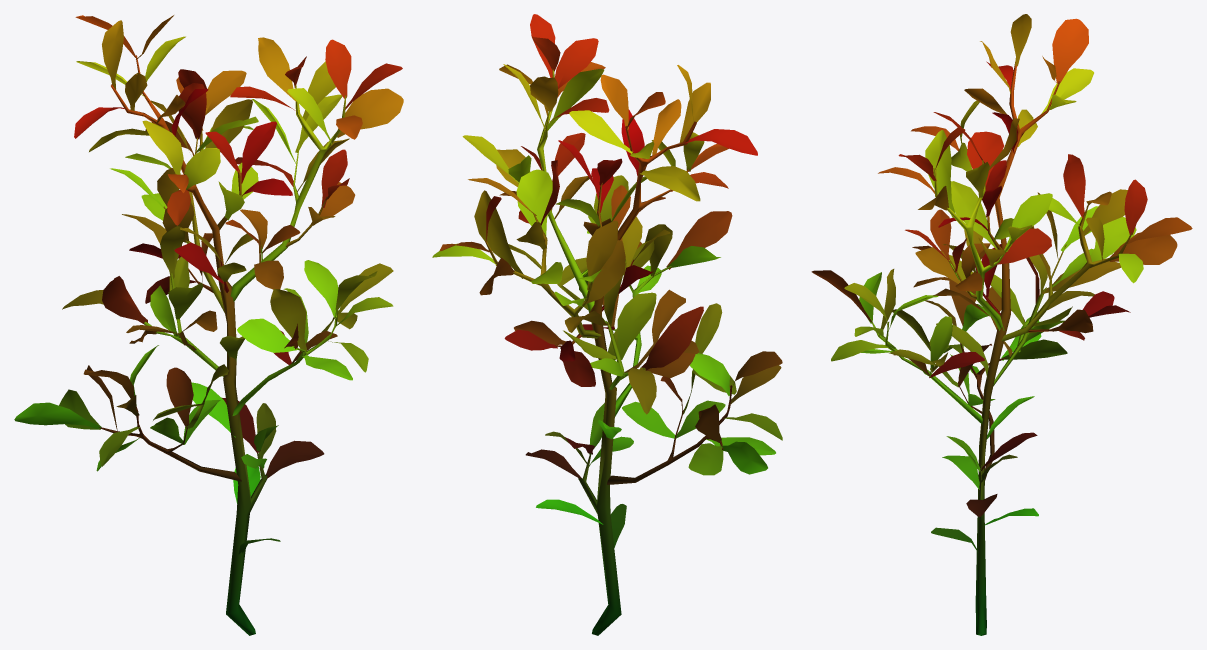
Rendered from SM_OW_Shrub_d_LOD0.fbx.
3 views of the same model, side by side, from view 1: azimuth 30°, elevation 25°; view 2: azimuth 150°, elevation 25°; view 3: azimuth 270°, elevation 25° (orthographic). The views are drawn at different scales.
Visible parts, largest first — view 1: SM_OW_Shrub_d_LOD0; view 2: SM_OW_Shrub_d_LOD0; view 3: SM_OW_Shrub_d_LOD0.
Part boxes in pixels (x1,y1,x2,y2): SM_OW_Shrub_d_LOD0: (14,15,403,635); SM_OW_Shrub_d_LOD0: (432,14,782,635); SM_OW_Shrub_d_LOD0: (811,14,1192,635).
Bounding box in the file's own units: 0.1561 × 0.2805 × 0.1685.
